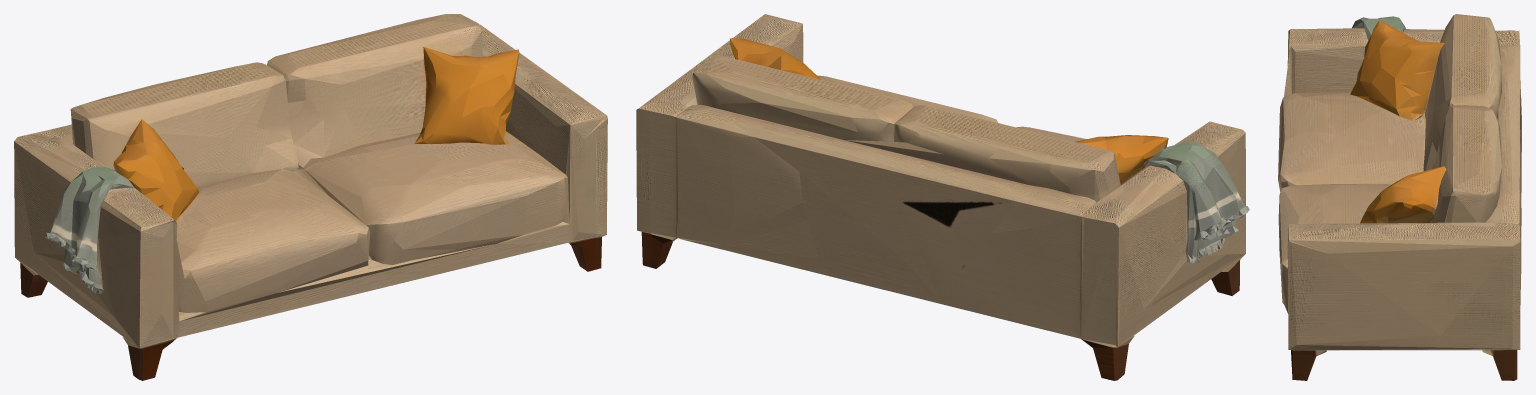
The model's file is home-sofa.glb.
3 renders of one model, left to right at view 1: azimuth 30°, elevation 25°; view 2: azimuth 150°, elevation 25°; view 3: azimuth 270°, elevation 25°, orthographic. The views are drawn at different scales.
Bounding box in the file's own units: 1.9 × 0.6803 × 0.8529.
Materials: 1 (1 with a texture image).
